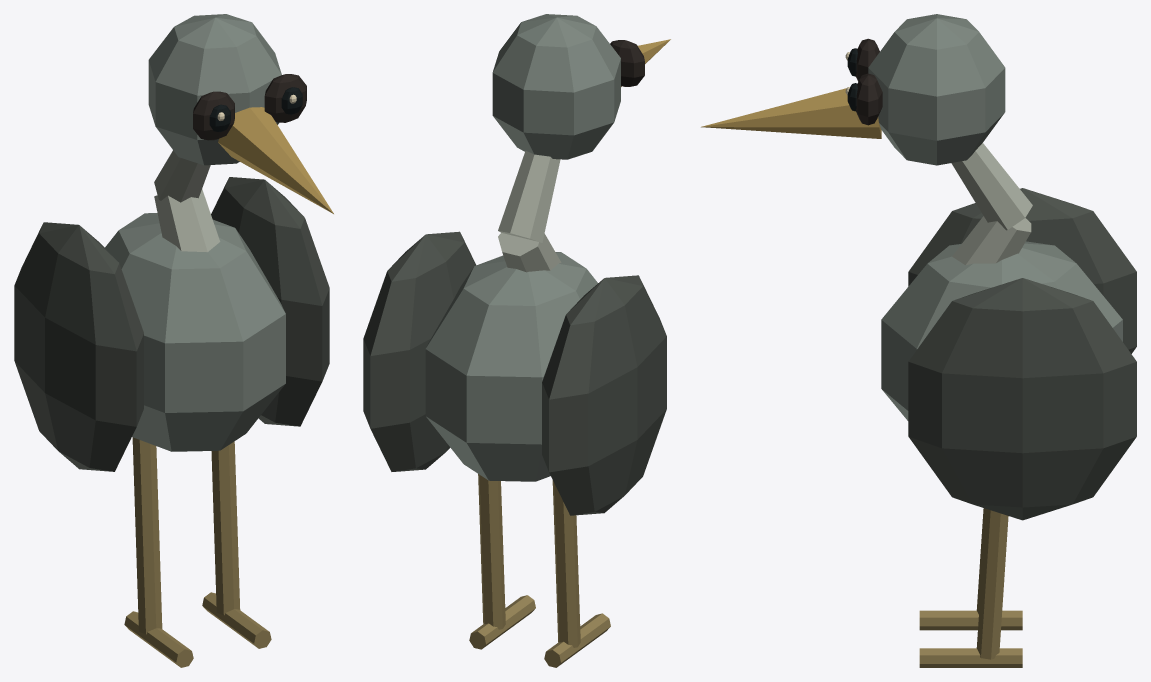
File: fauna-reed_heron.glb
The picture shows the model from 3 angles, left to right: view 1: azimuth 30°, elevation 25°; view 2: azimuth 150°, elevation 25°; view 3: azimuth 270°, elevation 25°; orthographic projection. The views are drawn at different scales.
Parts seen in each view (by area): view 1: Fauna_reed_heron; view 2: Fauna_reed_heron; view 3: Fauna_reed_heron.
Boxes of the visible parts, x1=… form: Fauna_reed_heron: x1=14, y1=14, x2=333, y2=667; Fauna_reed_heron: x1=363, y1=14, x2=670, y2=667; Fauna_reed_heron: x1=701, y1=14, x2=1136, y2=667.
Size of the model in its own units: 0.8483 by 2.02 by 1.27.
